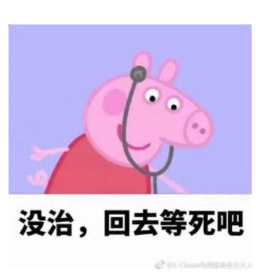Peppa: (24, 49, 216, 193)
